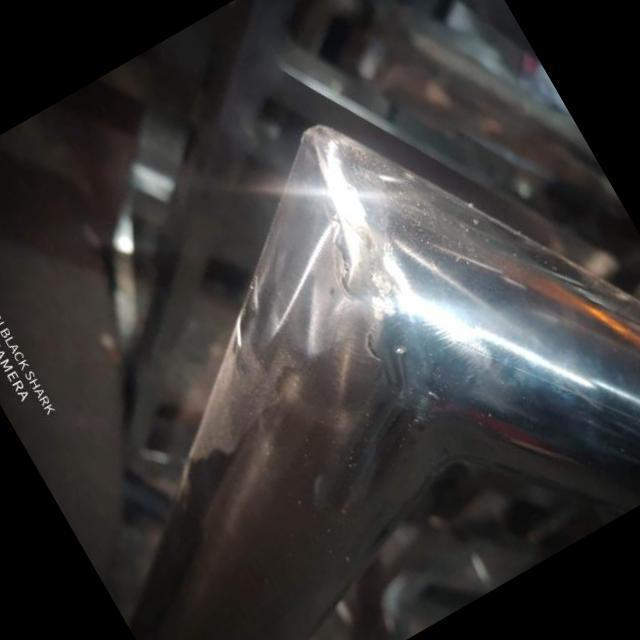defect: (312, 169, 365, 309), (361, 326, 396, 395)
